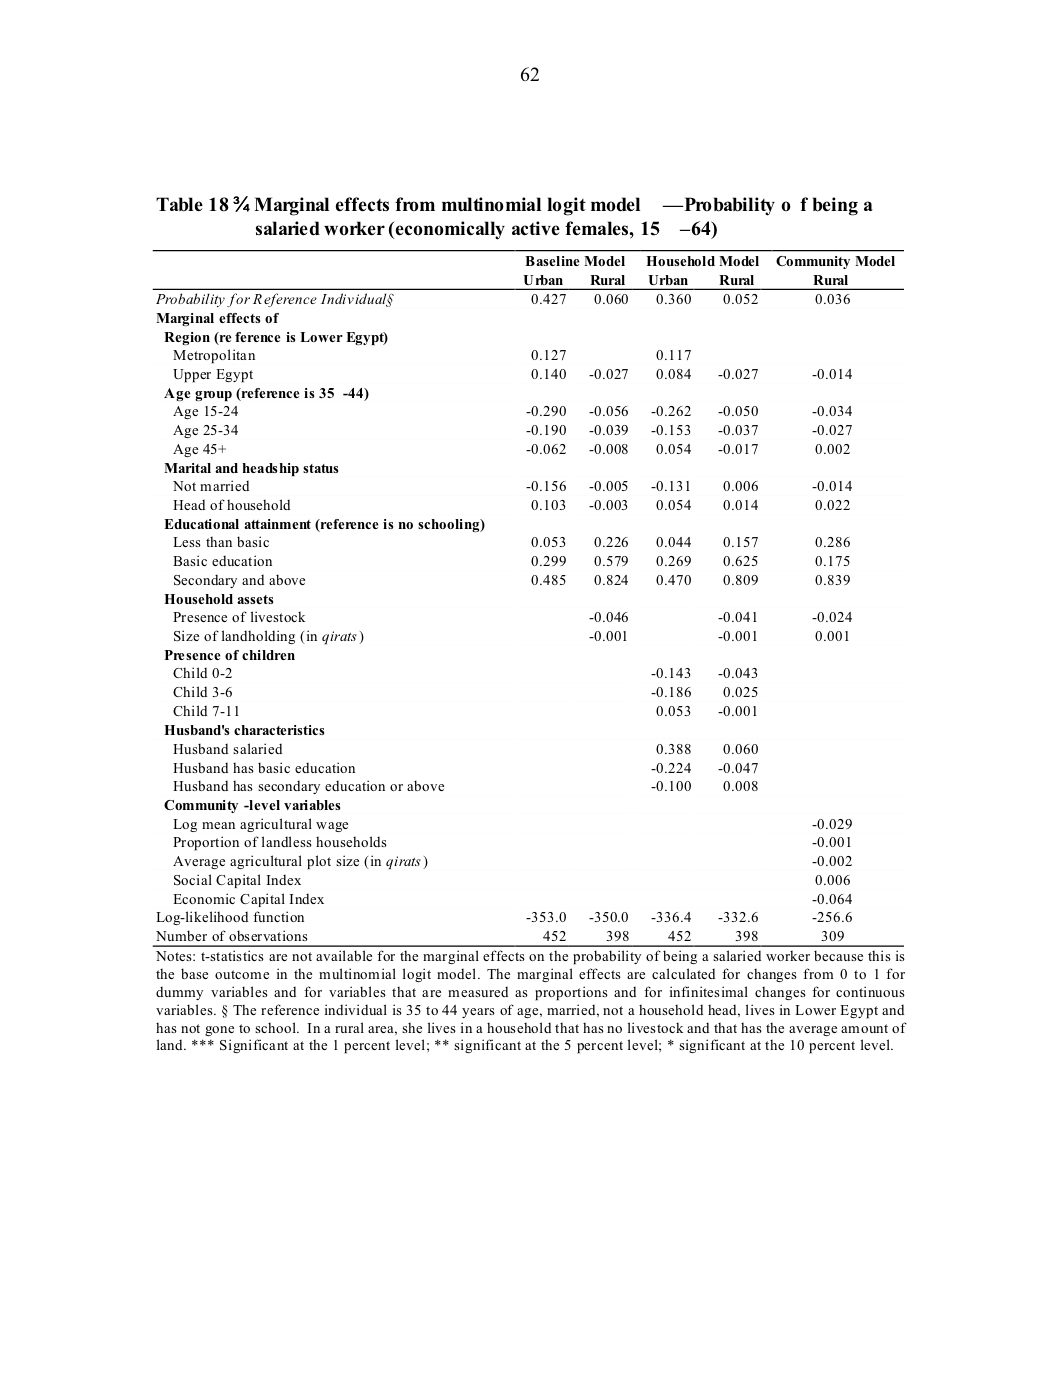Table: (152, 250, 903, 946)
